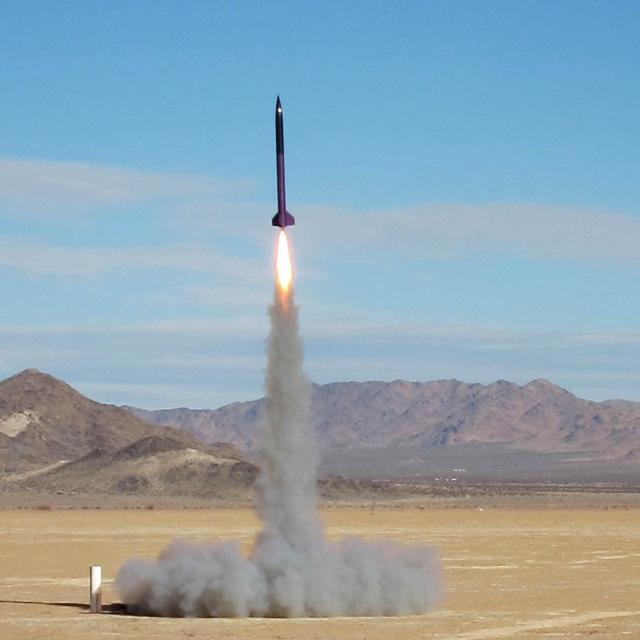Rocket: (271, 94, 296, 229)
